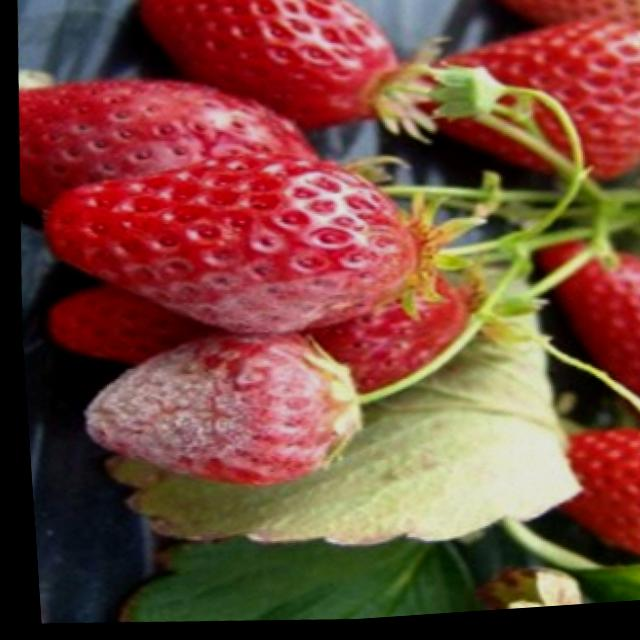Powdery Mildew Fruit: (35, 155, 421, 341), (73, 333, 355, 493)
